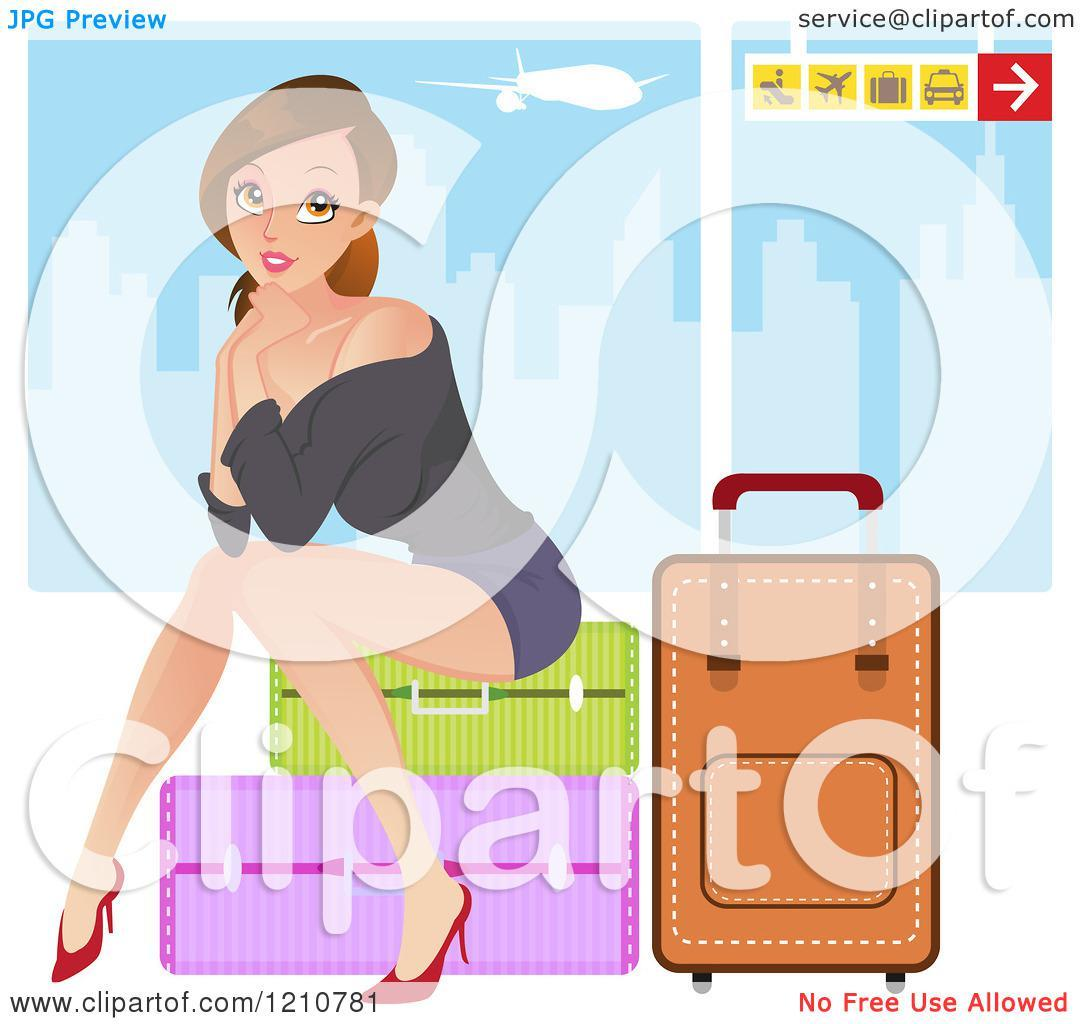aeroplane: (399, 41, 668, 141)
person: (46, 67, 606, 994)
